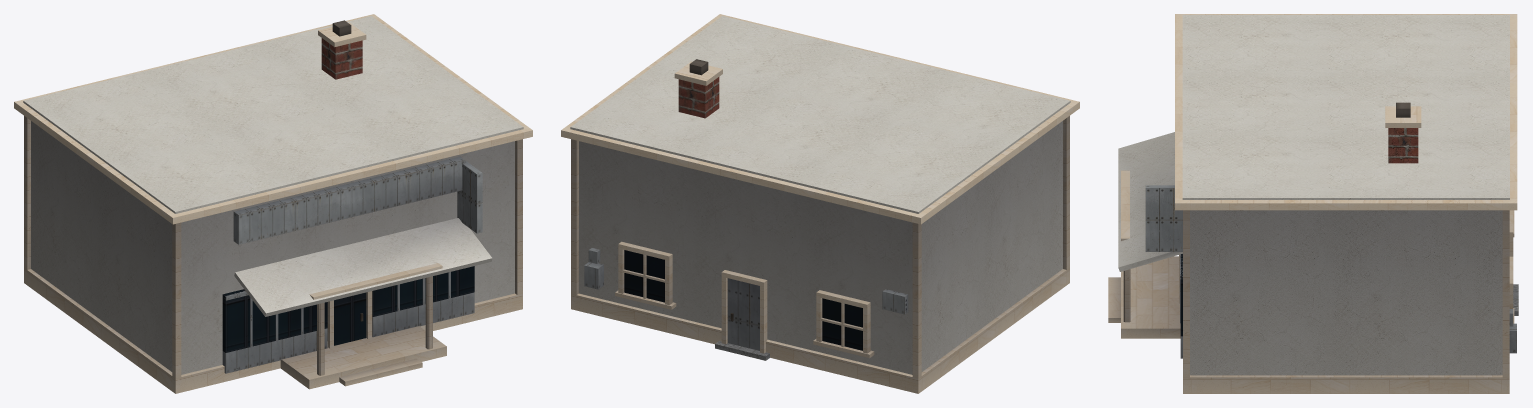
File: nail-beauty-salon_lod0.gltf
3 renders of one model, left to right at view 1: azimuth 30°, elevation 25°; view 2: azimuth 150°, elevation 25°; view 3: azimuth 270°, elevation 25°, orthographic. The views are drawn at different scales.
Visible parts, largest first — view 1: nail-beauty-salon__parapet, nail-beauty-salon_main, nail-beauty-salon__v4_stone_detail, nail-beauty-salon__awning, nail-beauty-salon__sign_band, nail-beauty-salon_fen_07-glass-curtain-blue_1_t, nail-beauty-salon_fen_14-steel-panel_4, nail-beauty-salon__blade_sign, nail-beauty-salon__v4_brick_detail, nail-beauty-salon_fen_04-limestone_0; view 2: nail-beauty-salon_main, nail-beauty-salon__parapet, nail-beauty-salon__v4_stone_detail, nail-beauty-salon_fen_04-limestone_0, nail-beauty-salon_fen_14-steel-panel_4, nail-beauty-salon_fen_07-glass-curtain-blue_1_t, nail-beauty-salon__v4_brick_detail, nail-beauty-salon_fen_06-granite_3; view 3: nail-beauty-salon__parapet, nail-beauty-salon_main, nail-beauty-salon__v4_stone_detail, nail-beauty-salon__awning, nail-beauty-salon__blade_sign, nail-beauty-salon__v4_brick_detail, nail-beauty-salon_fen_04-limestone_0, nail-beauty-salon_fen_14-steel-panel_4.
Boxes of the visible parts, box(x1,y1,x2,y2) form: nail-beauty-salon__parapet: box(23, 16, 523, 213); nail-beauty-salon_main: box(31, 121, 514, 374); nail-beauty-salon__v4_stone_detail: box(14, 14, 532, 393); nail-beauty-salon__awning: box(234, 218, 492, 316); nail-beauty-salon__sign_band: box(233, 156, 464, 244); nail-beauty-salon_fen_07-glass-curtain-blue_1_t: box(222, 266, 474, 352); nail-beauty-salon_fen_14-steel-panel_4: box(222, 272, 474, 373); nail-beauty-salon__blade_sign: box(457, 160, 482, 233); nail-beauty-salon__v4_brick_detail: box(321, 38, 362, 79); nail-beauty-salon_fen_04-limestone_0: box(327, 291, 372, 348); nail-beauty-salon_main: box(579, 121, 1062, 374); nail-beauty-salon__parapet: box(570, 16, 1070, 213); nail-beauty-salon__v4_stone_detail: box(561, 14, 1079, 393); nail-beauty-salon_fen_04-limestone_0: box(615, 241, 874, 357); nail-beauty-salon_fen_14-steel-panel_4: box(584, 248, 908, 350); nail-beauty-salon_fen_07-glass-curtain-blue_1_t: box(624, 250, 862, 350); nail-beauty-salon__v4_brick_detail: box(678, 77, 719, 118); nail-beauty-salon_fen_06-granite_3: box(715, 341, 769, 360); nail-beauty-salon__parapet: box(1182, 15, 1509, 199); nail-beauty-salon_main: box(1190, 210, 1502, 375); nail-beauty-salon__v4_stone_detail: box(1108, 14, 1517, 393); nail-beauty-salon__awning: box(1118, 132, 1182, 271); nail-beauty-salon__blade_sign: box(1145, 185, 1182, 251); nail-beauty-salon__v4_brick_detail: box(1388, 128, 1418, 163); nail-beauty-salon_fen_04-limestone_0: box(1179, 210, 1514, 323); nail-beauty-salon_fen_14-steel-panel_4: box(1180, 254, 1516, 358).
Size of the model in its own units: 12.72 by 7.74 by 11.66.
